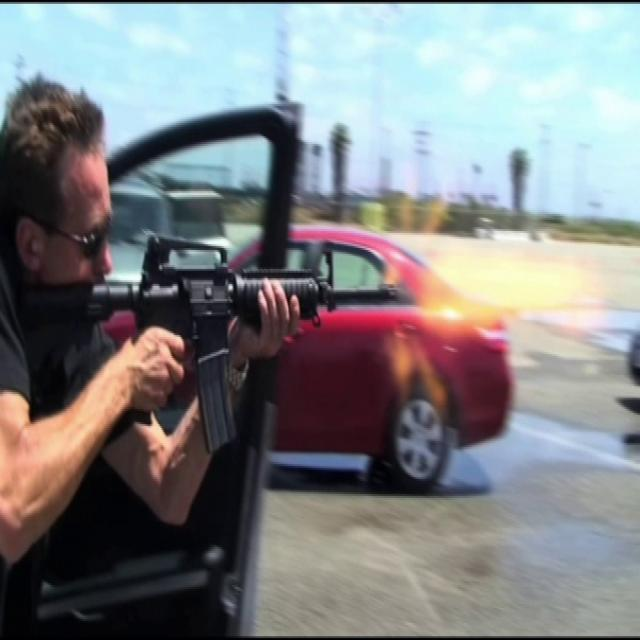rifle: (15, 234, 400, 456)
